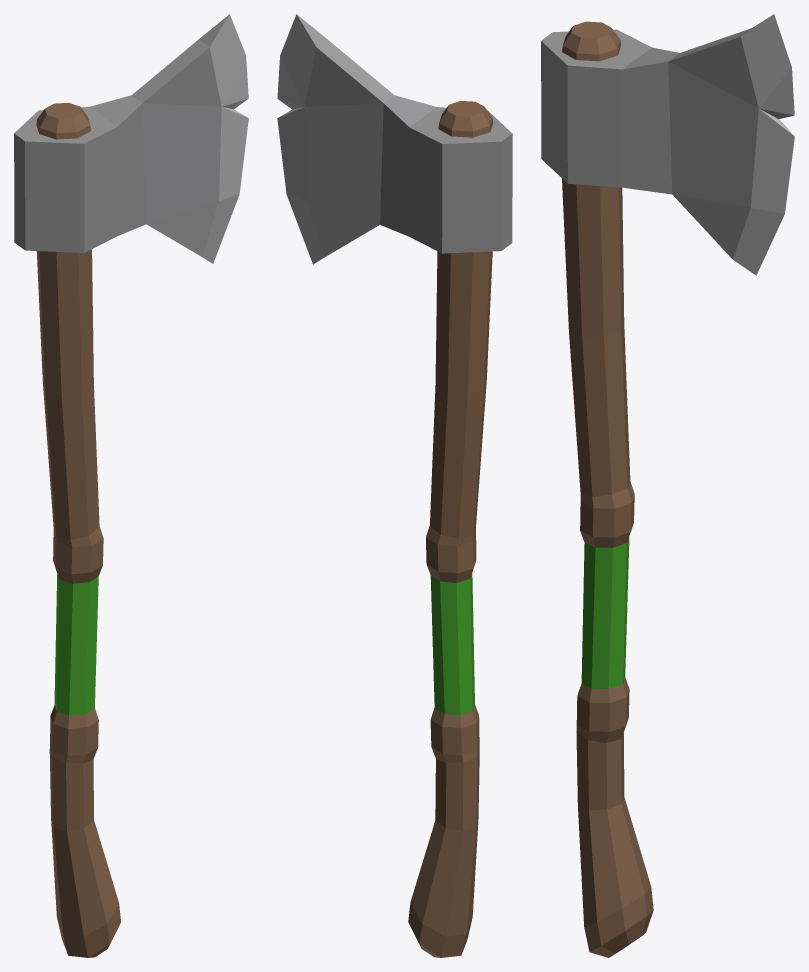
File: mesh_lowPoly_lumbearxe.fbx
3 renders of one model, left to right at view 1: azimuth 30°, elevation 25°; view 2: azimuth 150°, elevation 25°; view 3: azimuth 330°, elevation 25°, orthographic. The views are drawn at different scales.
Parts seen in each view (by area): view 1: mesh_lowPoly_lumbearxe; view 2: mesh_lowPoly_lumbearxe; view 3: mesh_lowPoly_lumbearxe.
Part boxes in pixels (<box>): mesh_lowPoly_lumbearxe: <box>14,14,248,957</box>; mesh_lowPoly_lumbearxe: <box>277,14,512,957</box>; mesh_lowPoly_lumbearxe: <box>541,14,794,957</box>.
Bounding box in the file's own units: 23.29 × 87.82 × 8.02.
